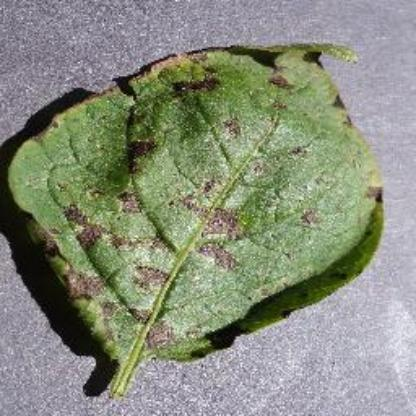Early-Blight: (8, 37, 386, 401)
